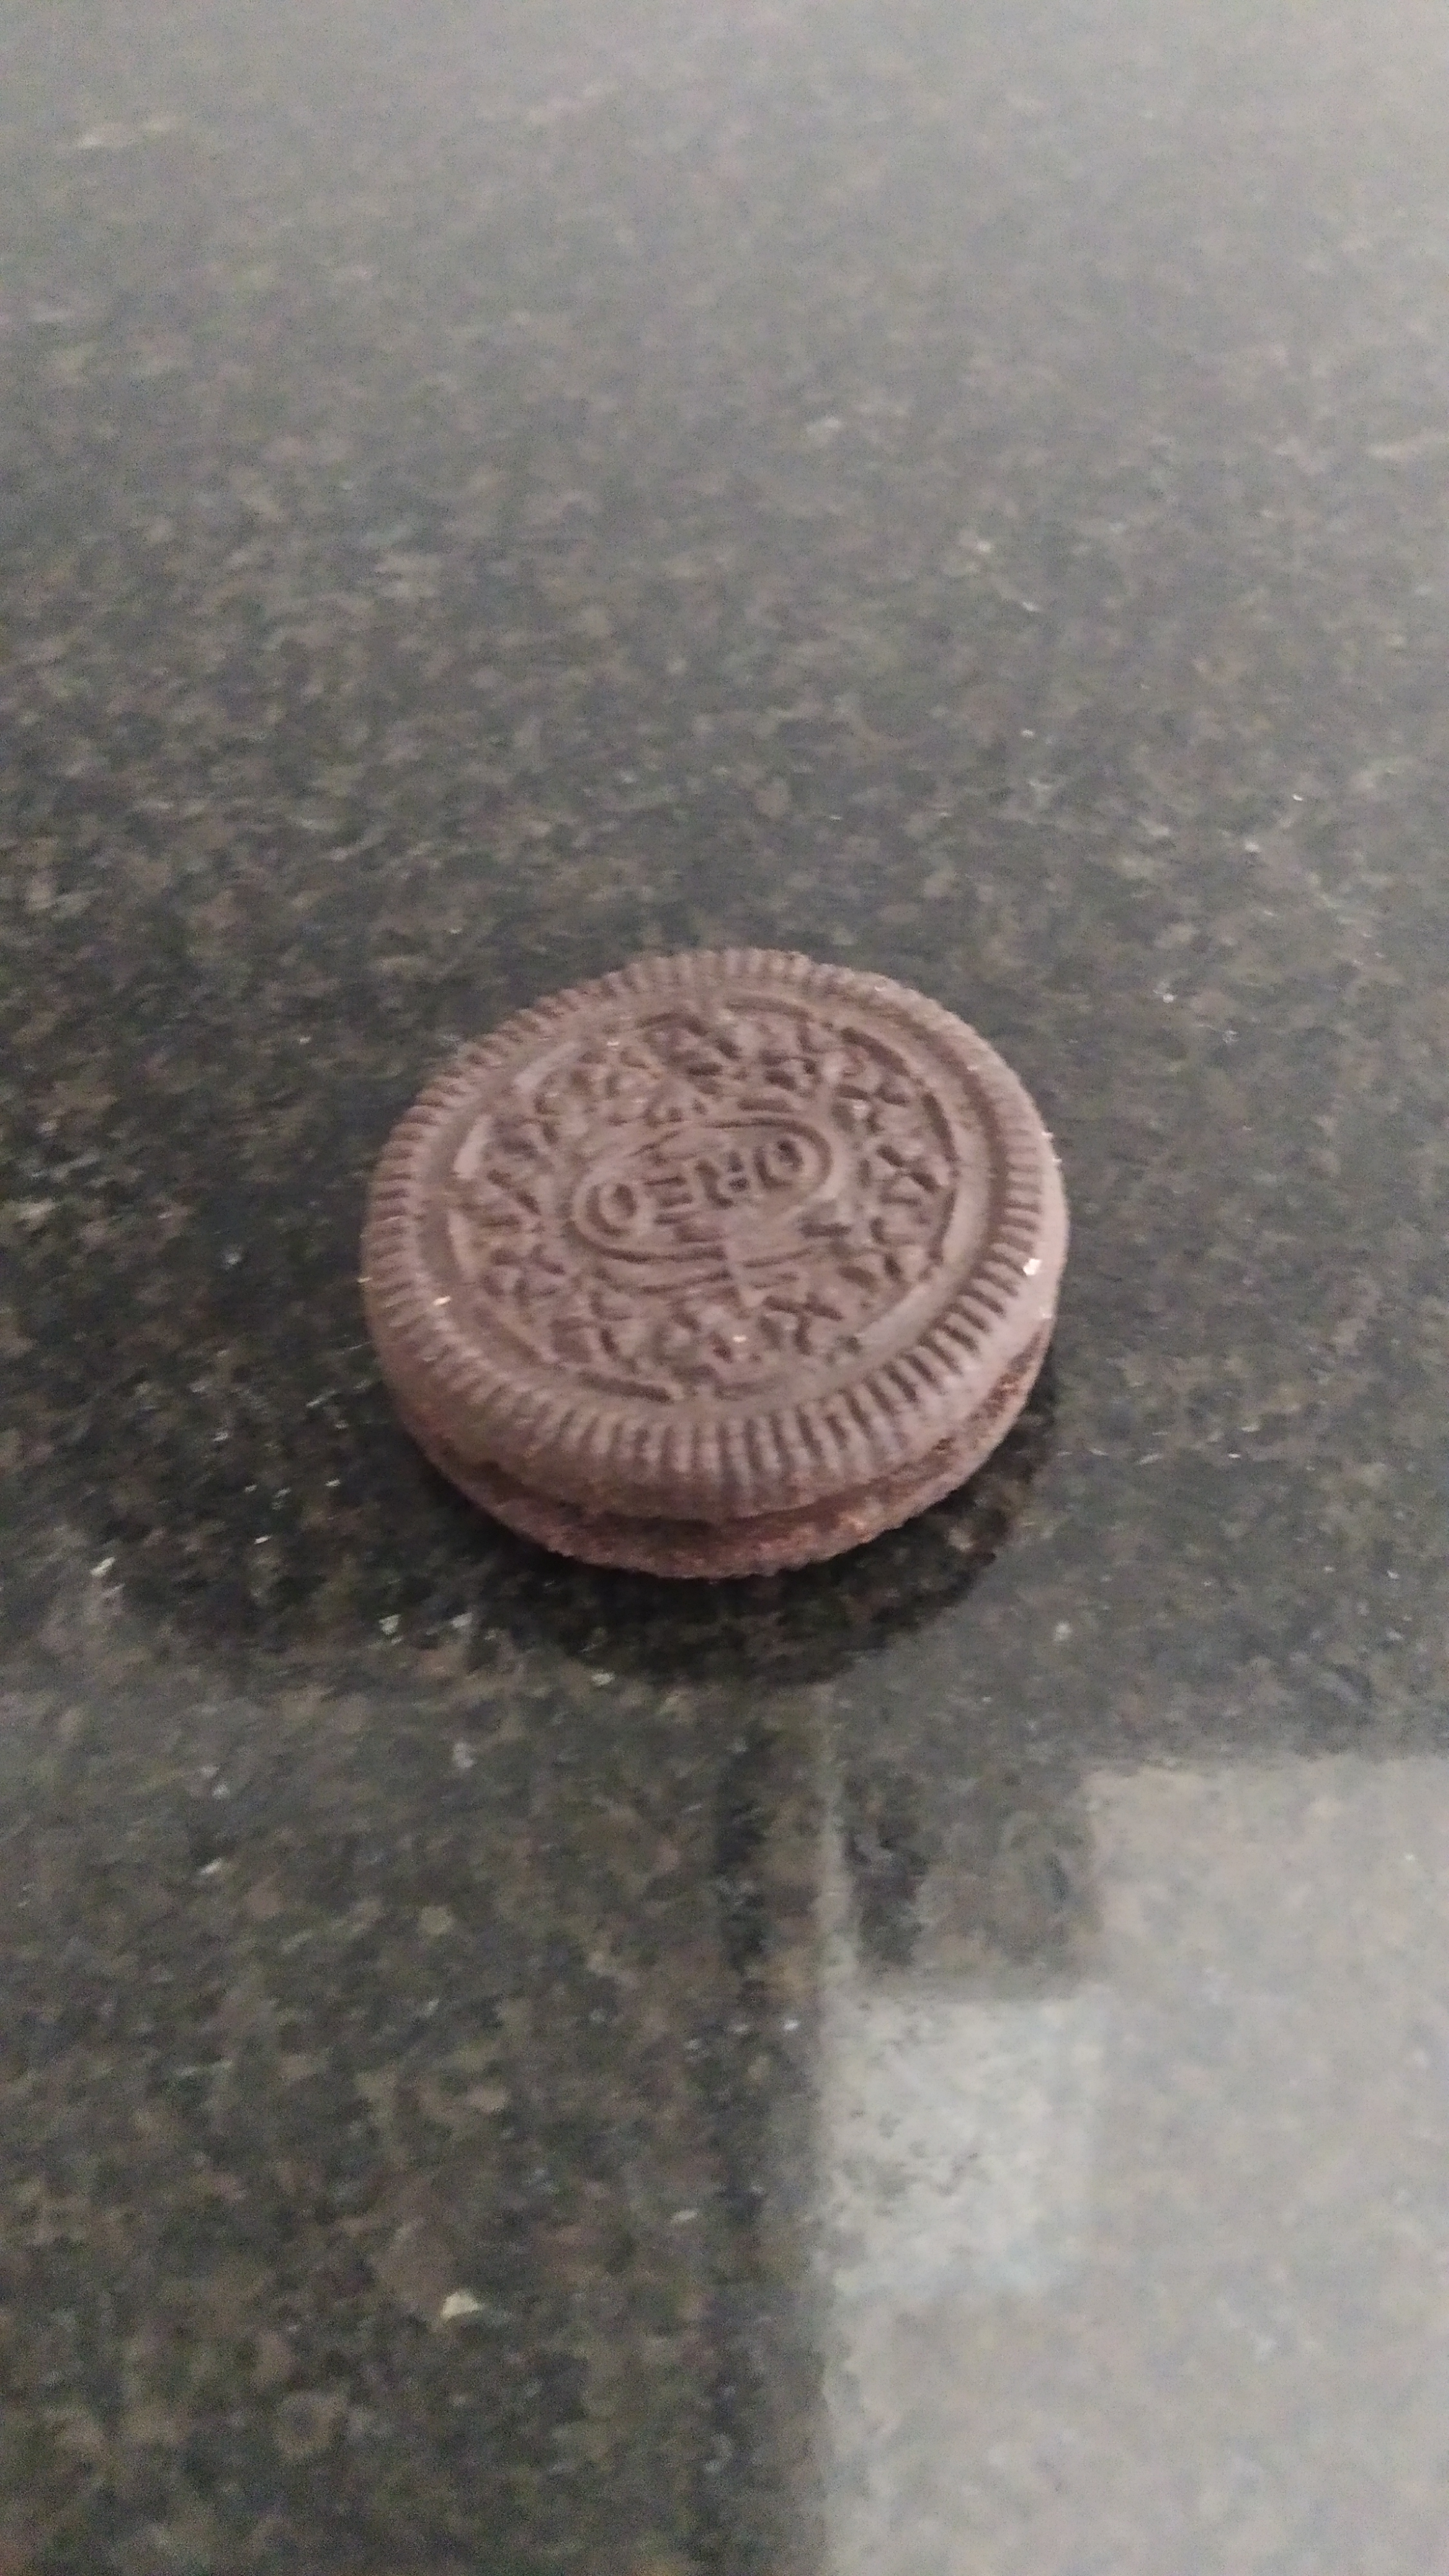oreo: (361, 948, 1070, 1582)
